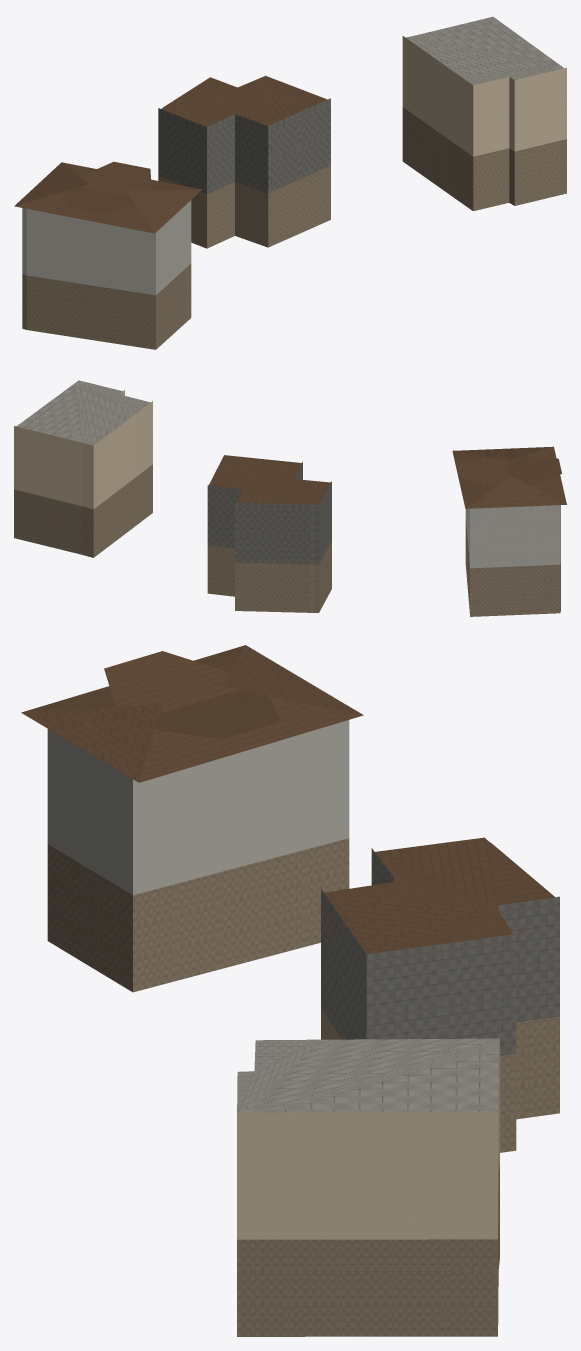
The model's file is bld_c38_48_194.gltf.
3 views of the same model, one above another, from view 1: azimuth 30°, elevation 25°; view 2: azimuth 150°, elevation 25°; view 3: azimuth 270°, elevation 25° (orthographic). The views are drawn at different scales.
Visible parts, largest first — view 1: bld_c38_48_194; view 2: bld_c38_48_194; view 3: bld_c38_48_194.
Part boxes in pixels (bbox=[...]): bld_c38_48_194: bbox=[14, 16, 566, 349]; bld_c38_48_194: bbox=[14, 380, 566, 616]; bld_c38_48_194: bbox=[21, 645, 559, 1336].
Bounding box in the file's own units: 53.9 × 12.6 × 25.66.
8 materials, 8 textured.
